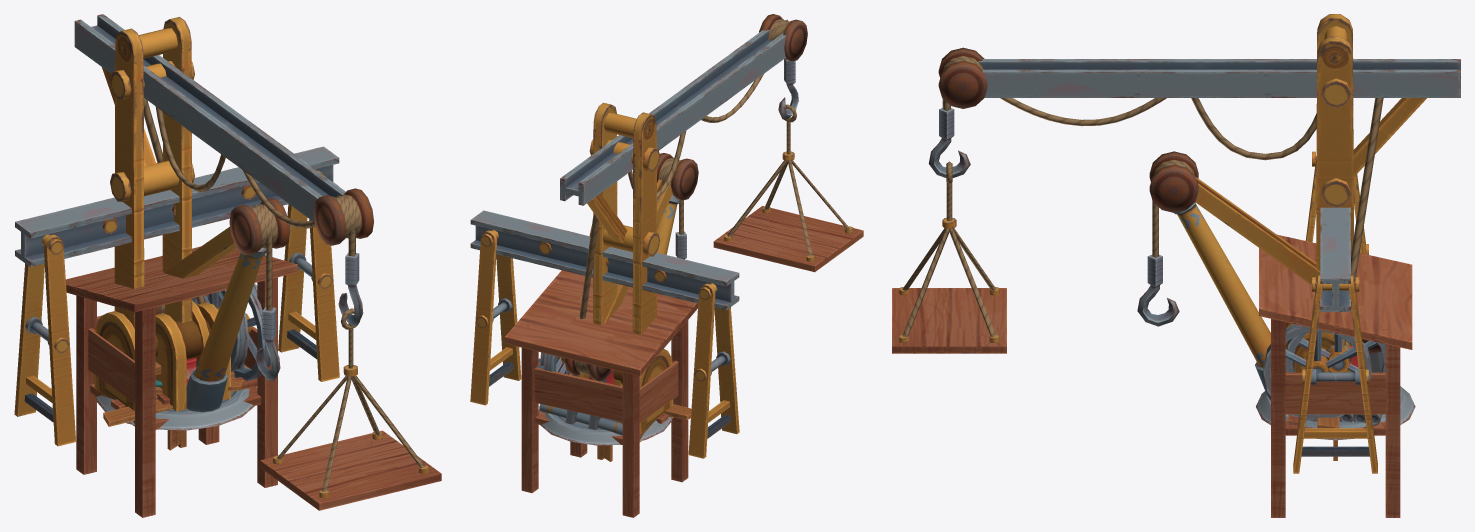
The model's file is RepairDock_Stuff.fbx.
3 views of the same model, side by side, from view 1: azimuth 30°, elevation 25°; view 2: azimuth 150°, elevation 25°; view 3: azimuth 270°, elevation 25° (orthographic). The views are drawn at different scales.
Visible parts, largest first — view 1: Crane_B, RepairDock_Stuff_A, RepairDock_Stuff_B, Crane_A; view 2: Crane_B, RepairDock_Stuff_B, RepairDock_Stuff_A, Crane_A; view 3: Crane_B, RepairDock_Stuff_B, Crane_A, RepairDock_Stuff_A.
Boxes of the visible parts, x1,y1,x2,y2 form: Crane_B: (74,14,441,510); RepairDock_Stuff_A: (14,146,339,446); RepairDock_Stuff_B: (65,246,297,517); Crane_A: (96,198,290,430); Crane_B: (536,14,863,442); RepairDock_Stuff_B: (505,270,698,517); RepairDock_Stuff_A: (470,210,739,458); Crane_A: (538,153,698,445); Crane_B: (892,14,1460,372); RepairDock_Stuff_B: (1259,234,1412,517); Crane_A: (1137,151,1415,440); RepairDock_Stuff_A: (1293,151,1377,473).
Size of the model in its own units: 285 by 404 by 466.
